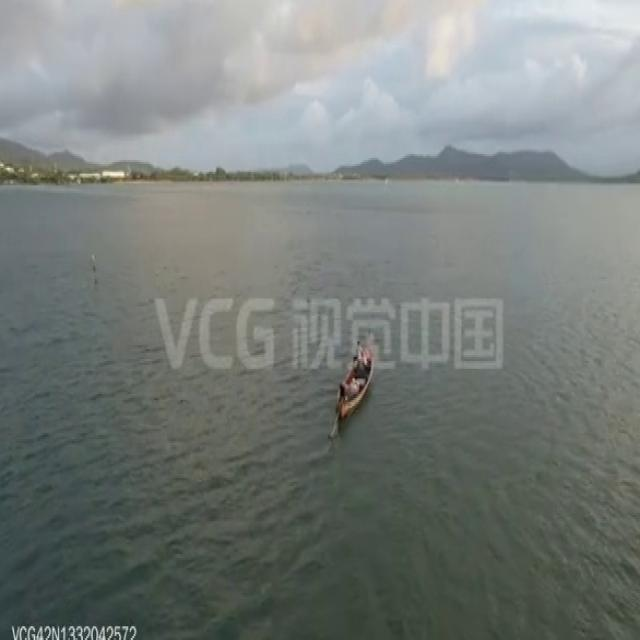fishing boat: (324, 328, 376, 435)
